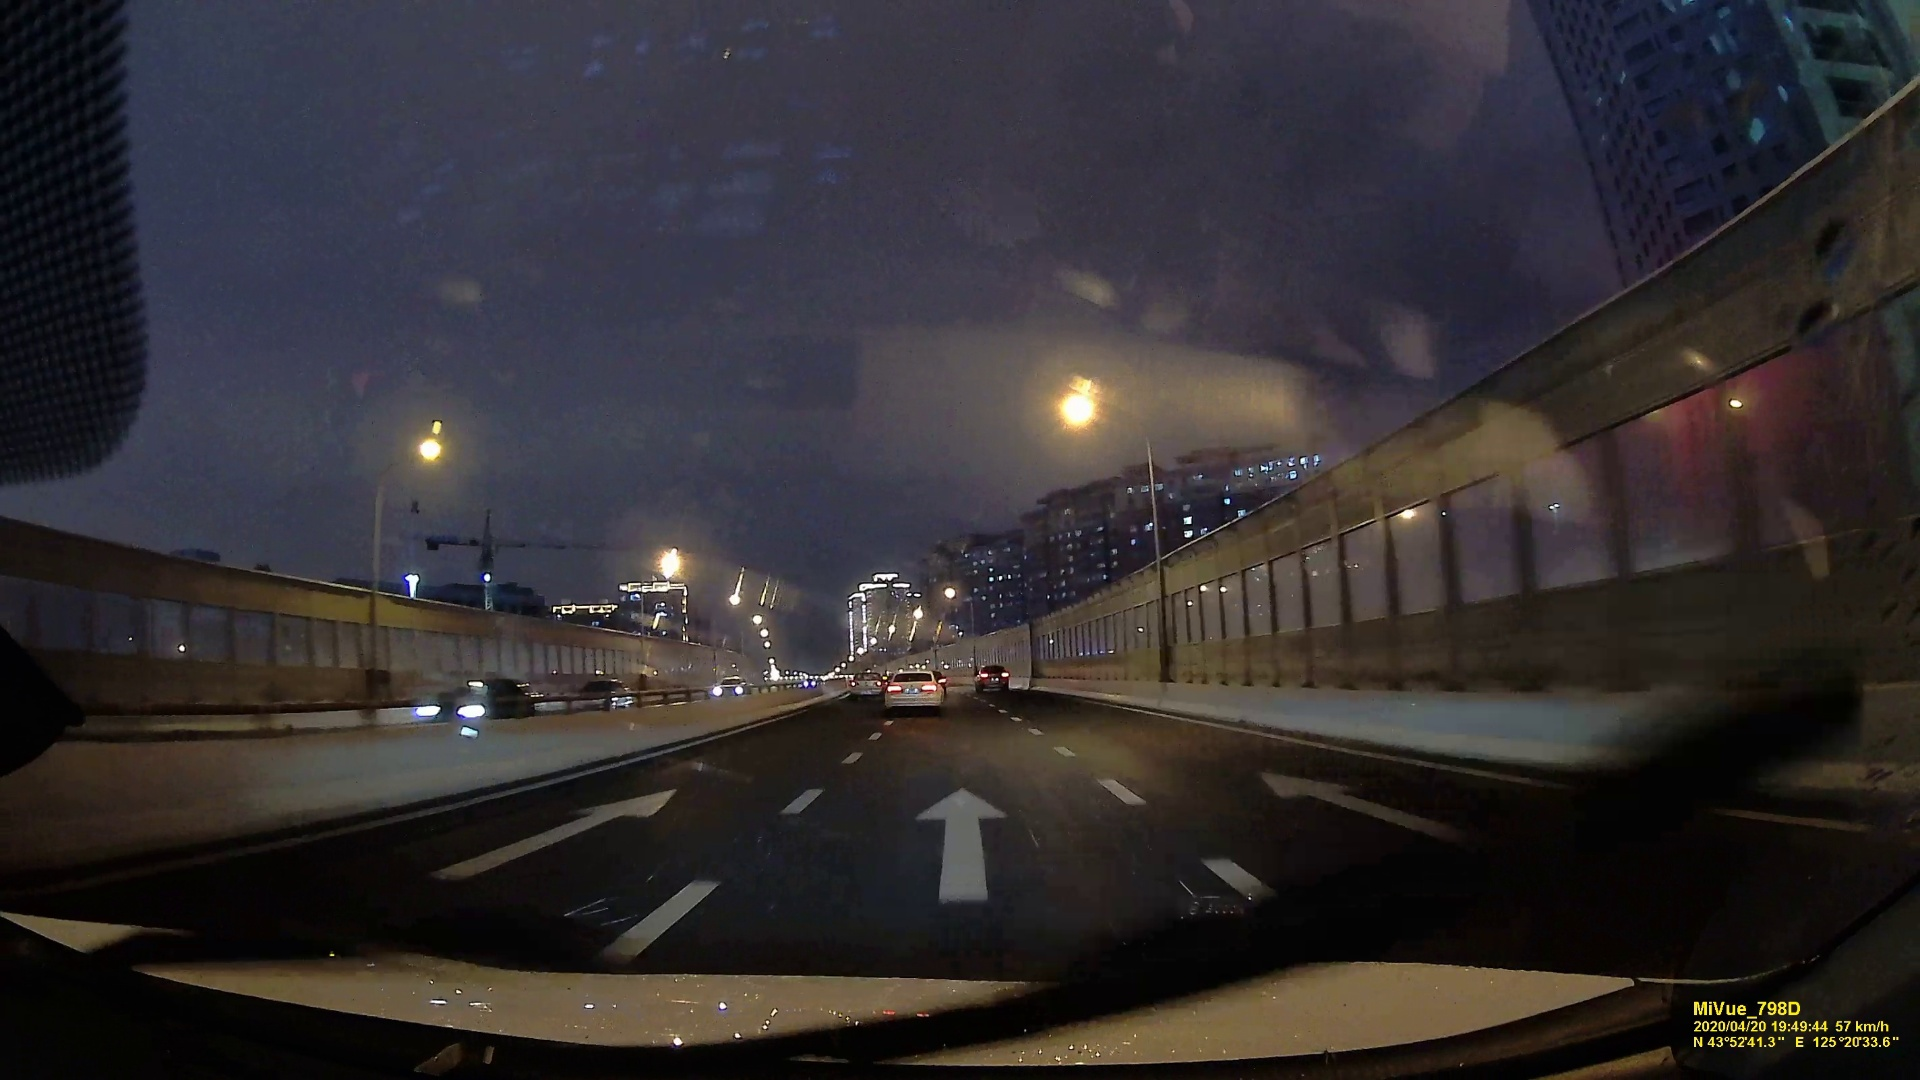vehicle: (414, 674, 535, 721), (881, 669, 943, 709), (972, 665, 1007, 688), (711, 676, 749, 694)
